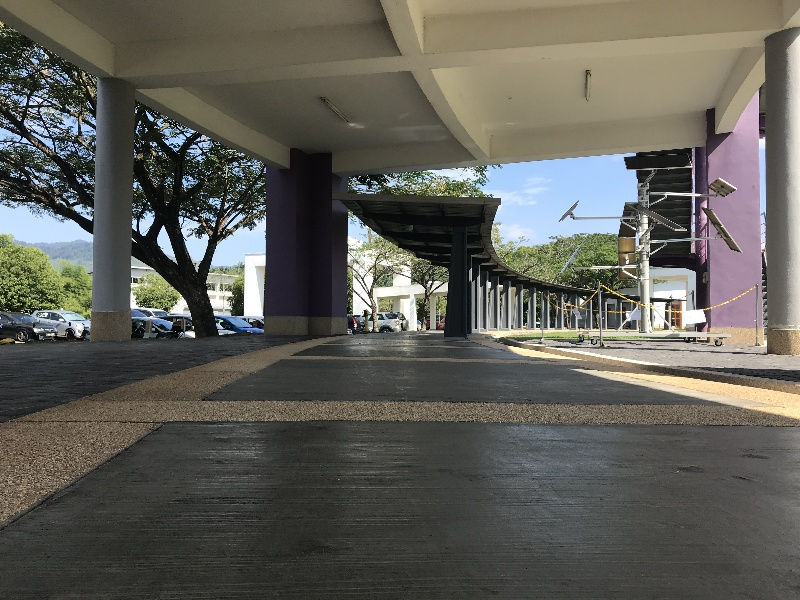pillar: (249, 139, 358, 352), (693, 95, 761, 351), (82, 72, 140, 347), (755, 30, 798, 364), (441, 219, 478, 344)
